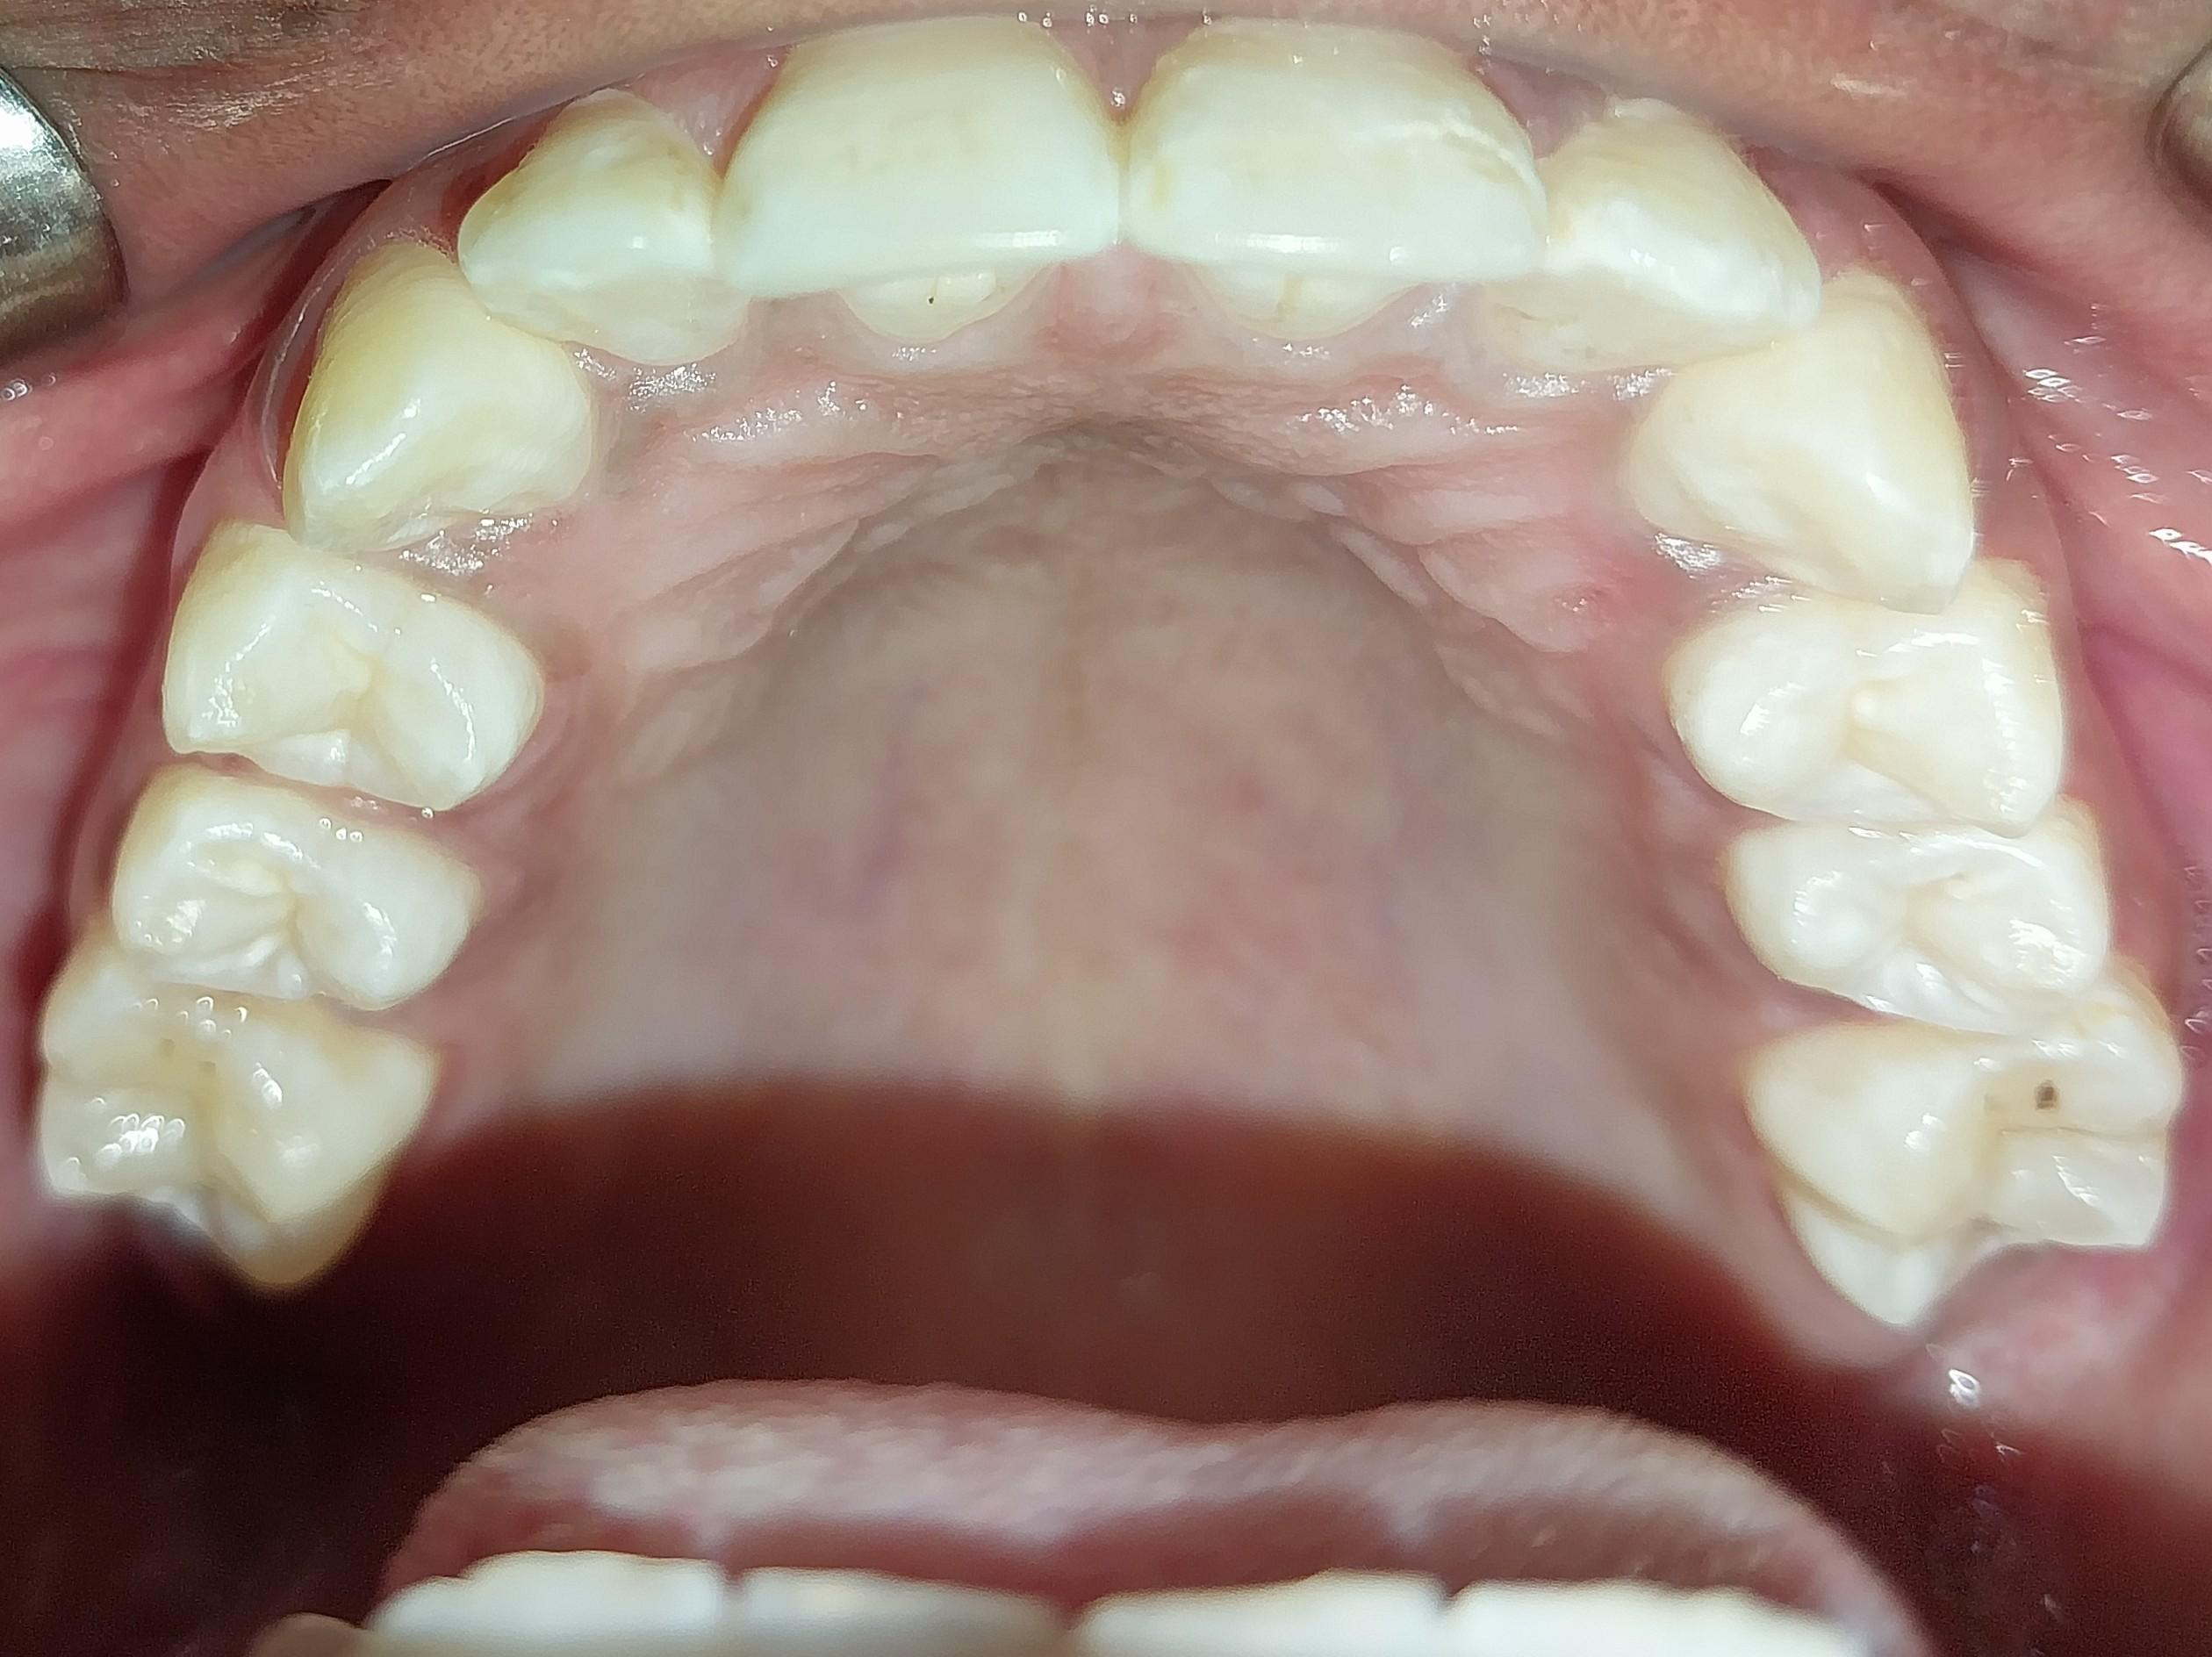D: (1746, 989, 2201, 1326)
